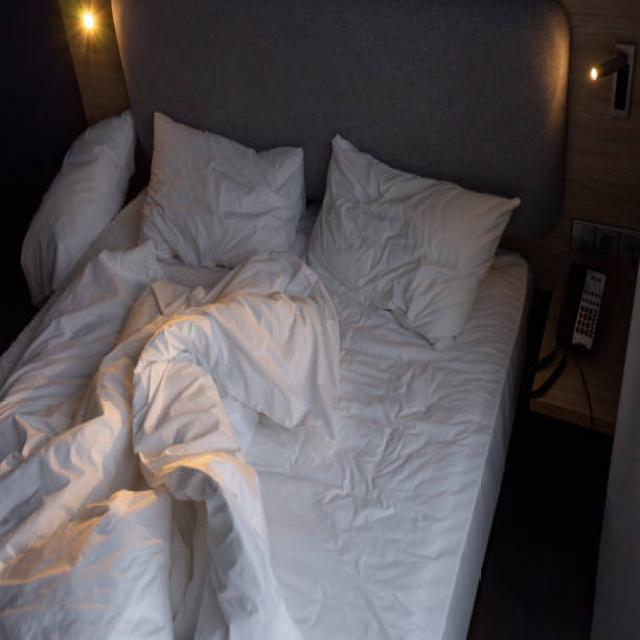bed: (0, 114, 531, 640)
